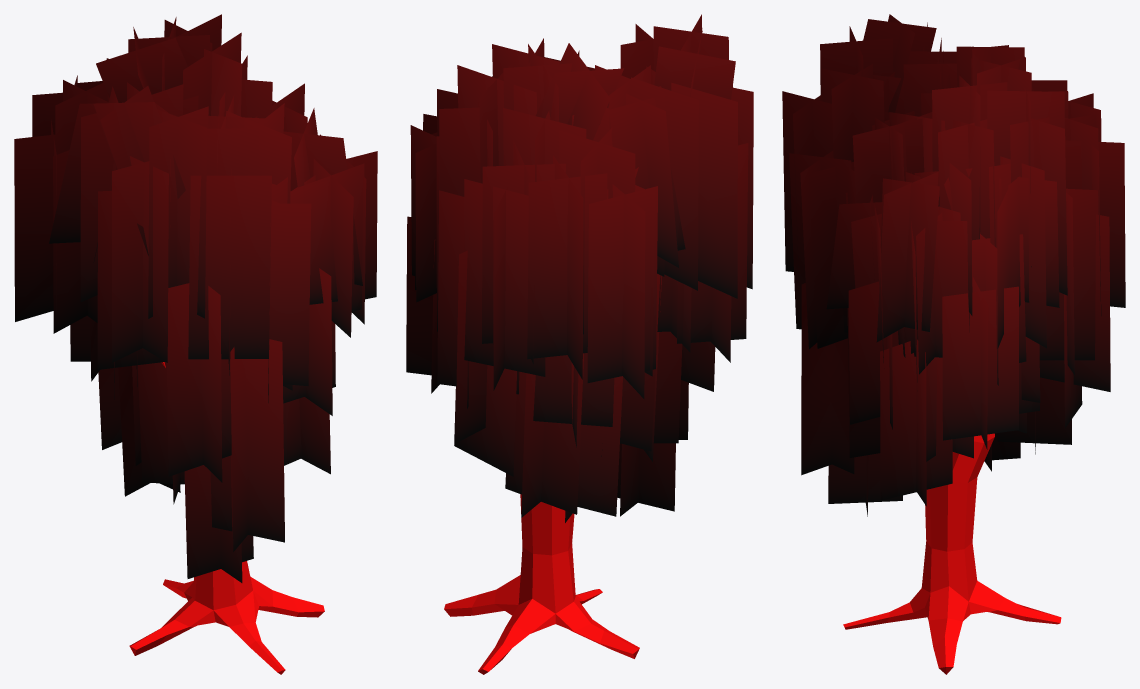
File: HangingTree.fbx
The picture shows the model from 3 angles, left to right: view 1: azimuth 30°, elevation 25°; view 2: azimuth 150°, elevation 25°; view 3: azimuth 270°, elevation 25°; orthographic projection. The views are drawn at different scales.
Visible parts, largest first — view 1: Leaves, Trunk; view 2: Leaves, Trunk; view 3: Leaves, Trunk.
Part boxes in pixels (<box>): Leaves: <box>14,14,377,582</box>; Trunk: <box>129,362,324,674</box>; Leaves: <box>406,14,753,522</box>; Trunk: <box>444,494,639,674</box>; Leaves: <box>782,14,1125,516</box>; Trunk: <box>843,433,1061,674</box>.
Bounding box in the file's own units: 340 × 624 × 342.
